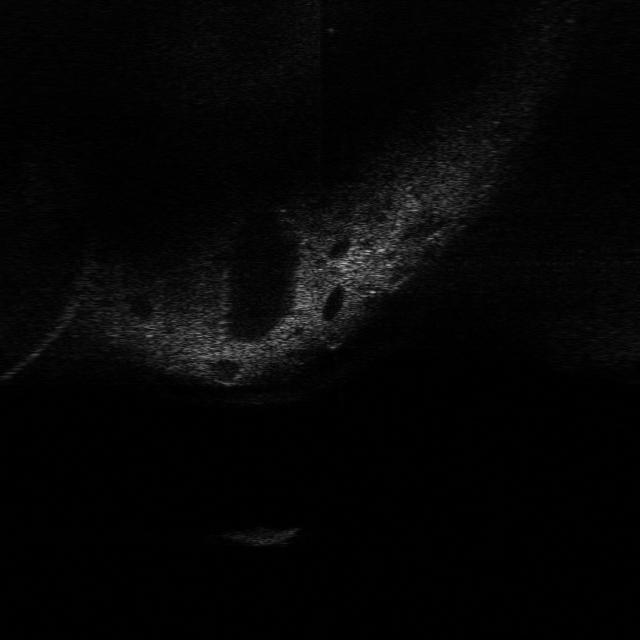ball: (317, 324, 349, 352)
cube: (219, 520, 303, 552)
